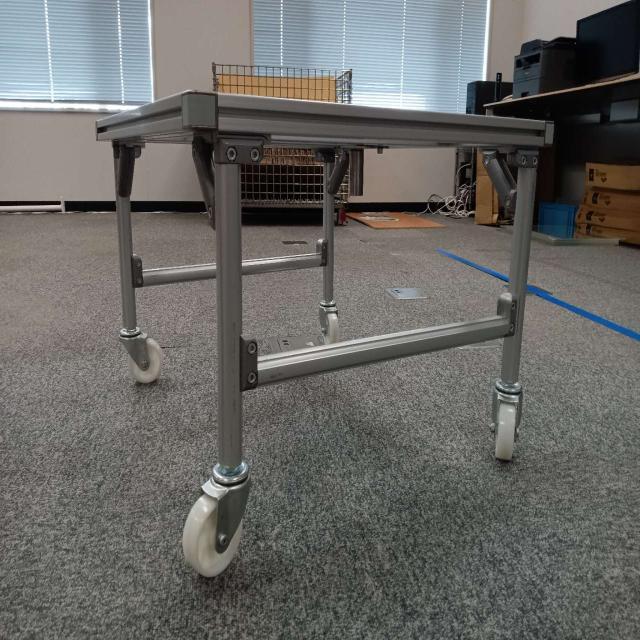door: (112, 97, 231, 230)
side: (221, 92, 540, 384)
